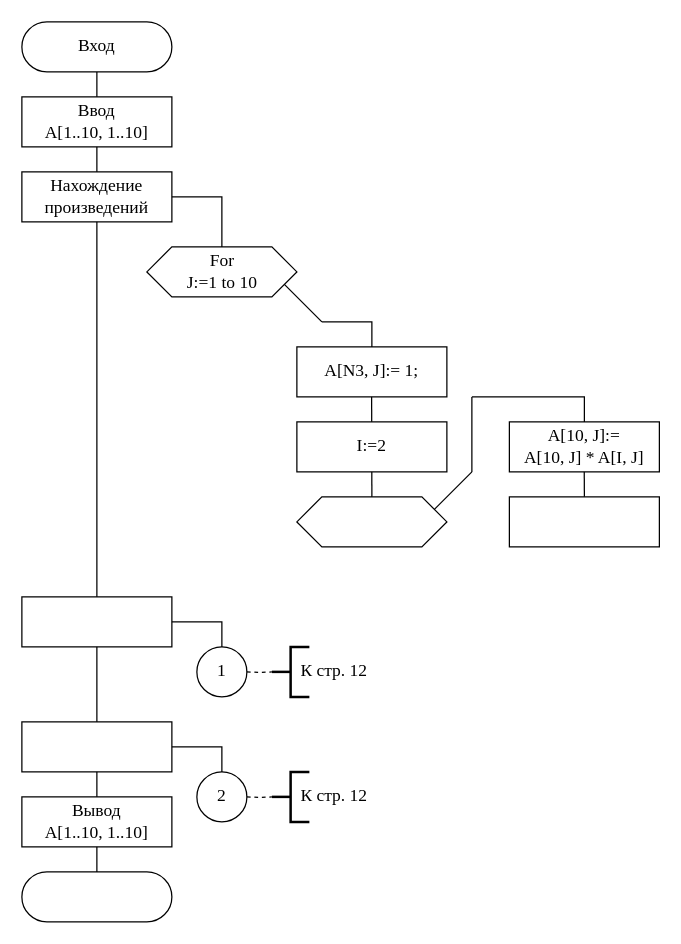
Image size: 681x944. Some labels were removed from this diagram. Each missing label, with the centre of its shape:
"I:= I + 2" belongs at [583,521].
"Until I = 10" belongs at [371,521].
"Выход" belongs at [96,896].
"Сортировка в столбцах" belongs at [96,621].
"Сортировка столбцов" belongs at [96,746].
